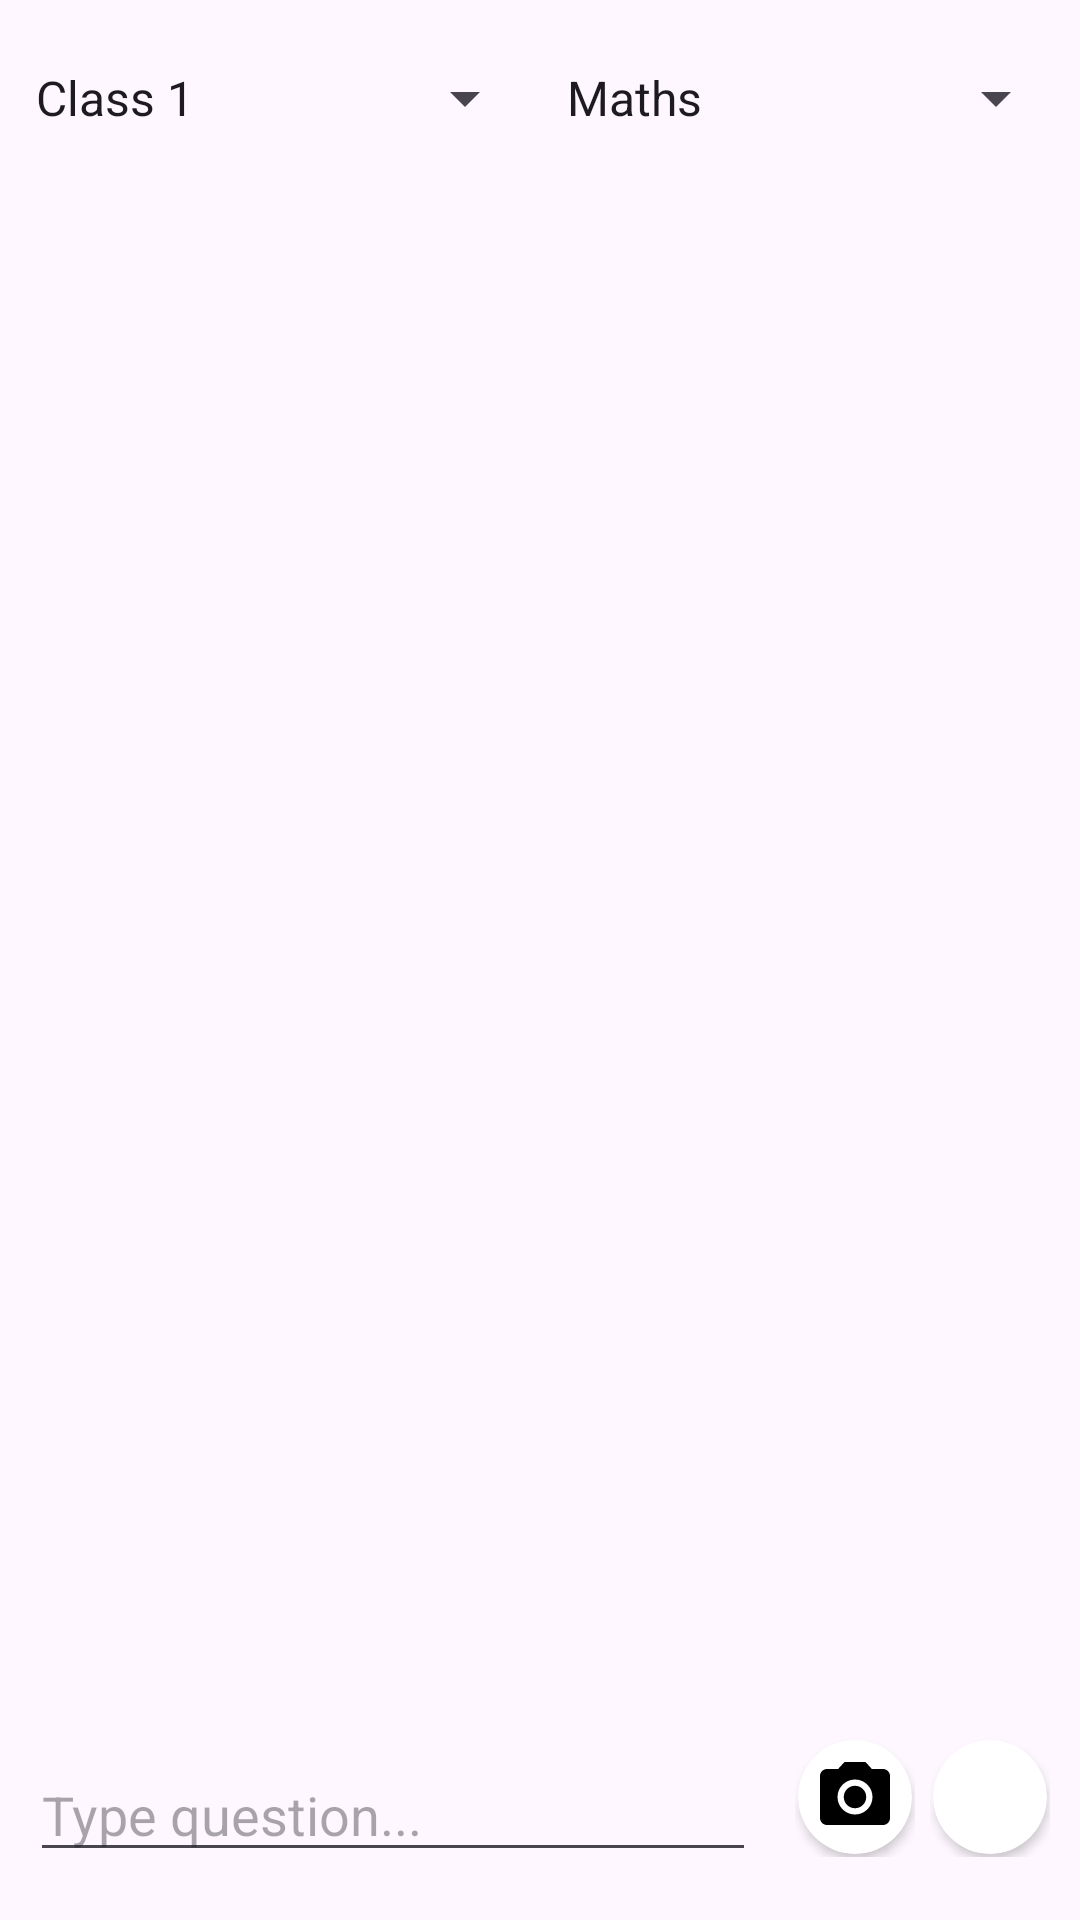

Icon click points for this 1080x1920 phone screenshot, format point (x, y):
camera: point (855, 1793)
